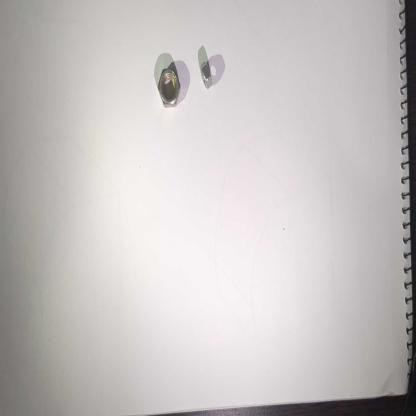NUTS: (150, 55, 183, 123), (199, 55, 226, 97)
